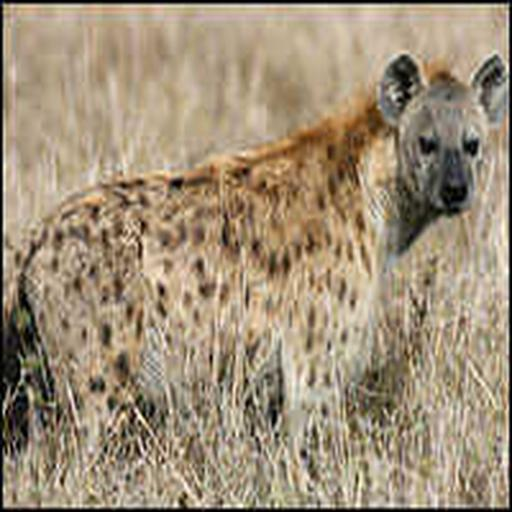Hyena: (0, 51, 509, 487)
